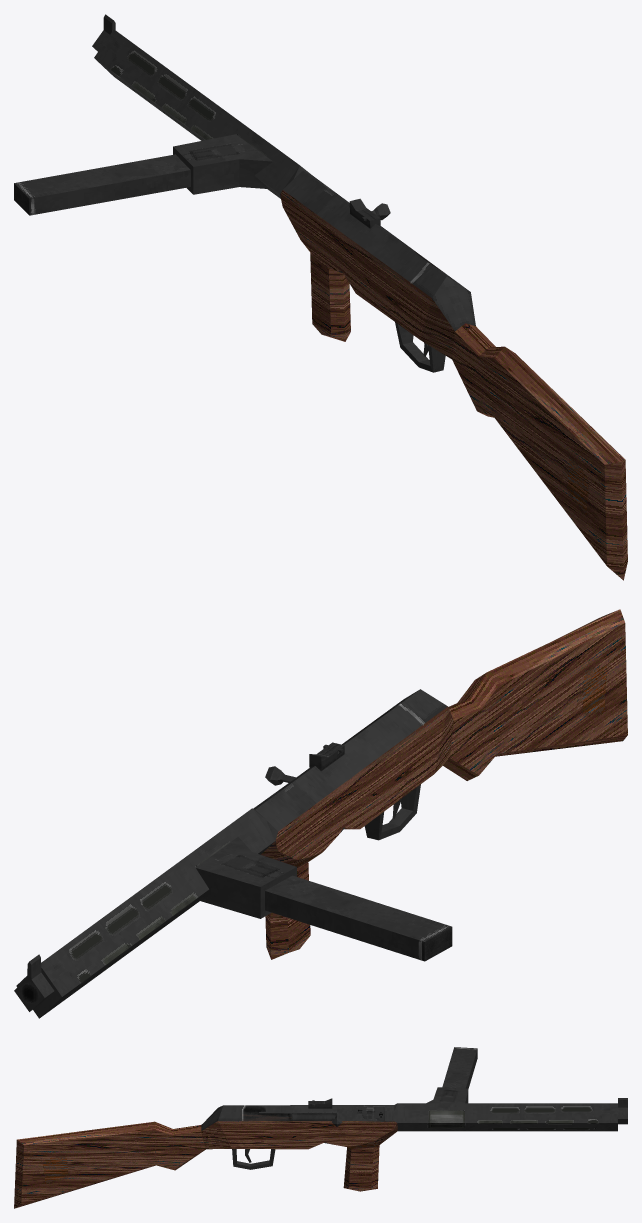
File: EMP.glb
The picture shows the model from 3 angles, top to bottom: view 1: azimuth 30°, elevation 25°; view 2: azimuth 150°, elevation 25°; view 3: azimuth 270°, elevation 25°; orthographic projection. The views are drawn at different scales.
Visible parts, largest first — view 1: EMP, magazine; view 2: EMP, magazine; view 3: EMP, magazine.
Part boxes in pixels (x1,y1,x2,y2): EMP: [92, 14, 627, 580]; magazine: [14, 154, 190, 215]; EMP: [14, 609, 627, 1018]; magazine: [265, 875, 452, 961]; EMP: [14, 1087, 627, 1208]; magazine: [442, 1047, 477, 1088].
Bounding box in the file's own units: 0.26 × 0.1779 × 0.8934.
Materials: 1 (1 with a texture image).
